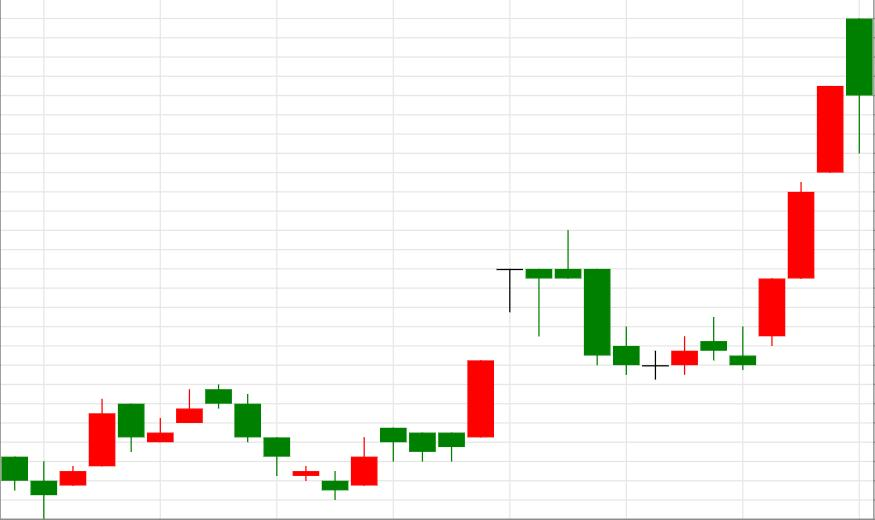three_white_soldiers_rise: (523, 85, 845, 379)
